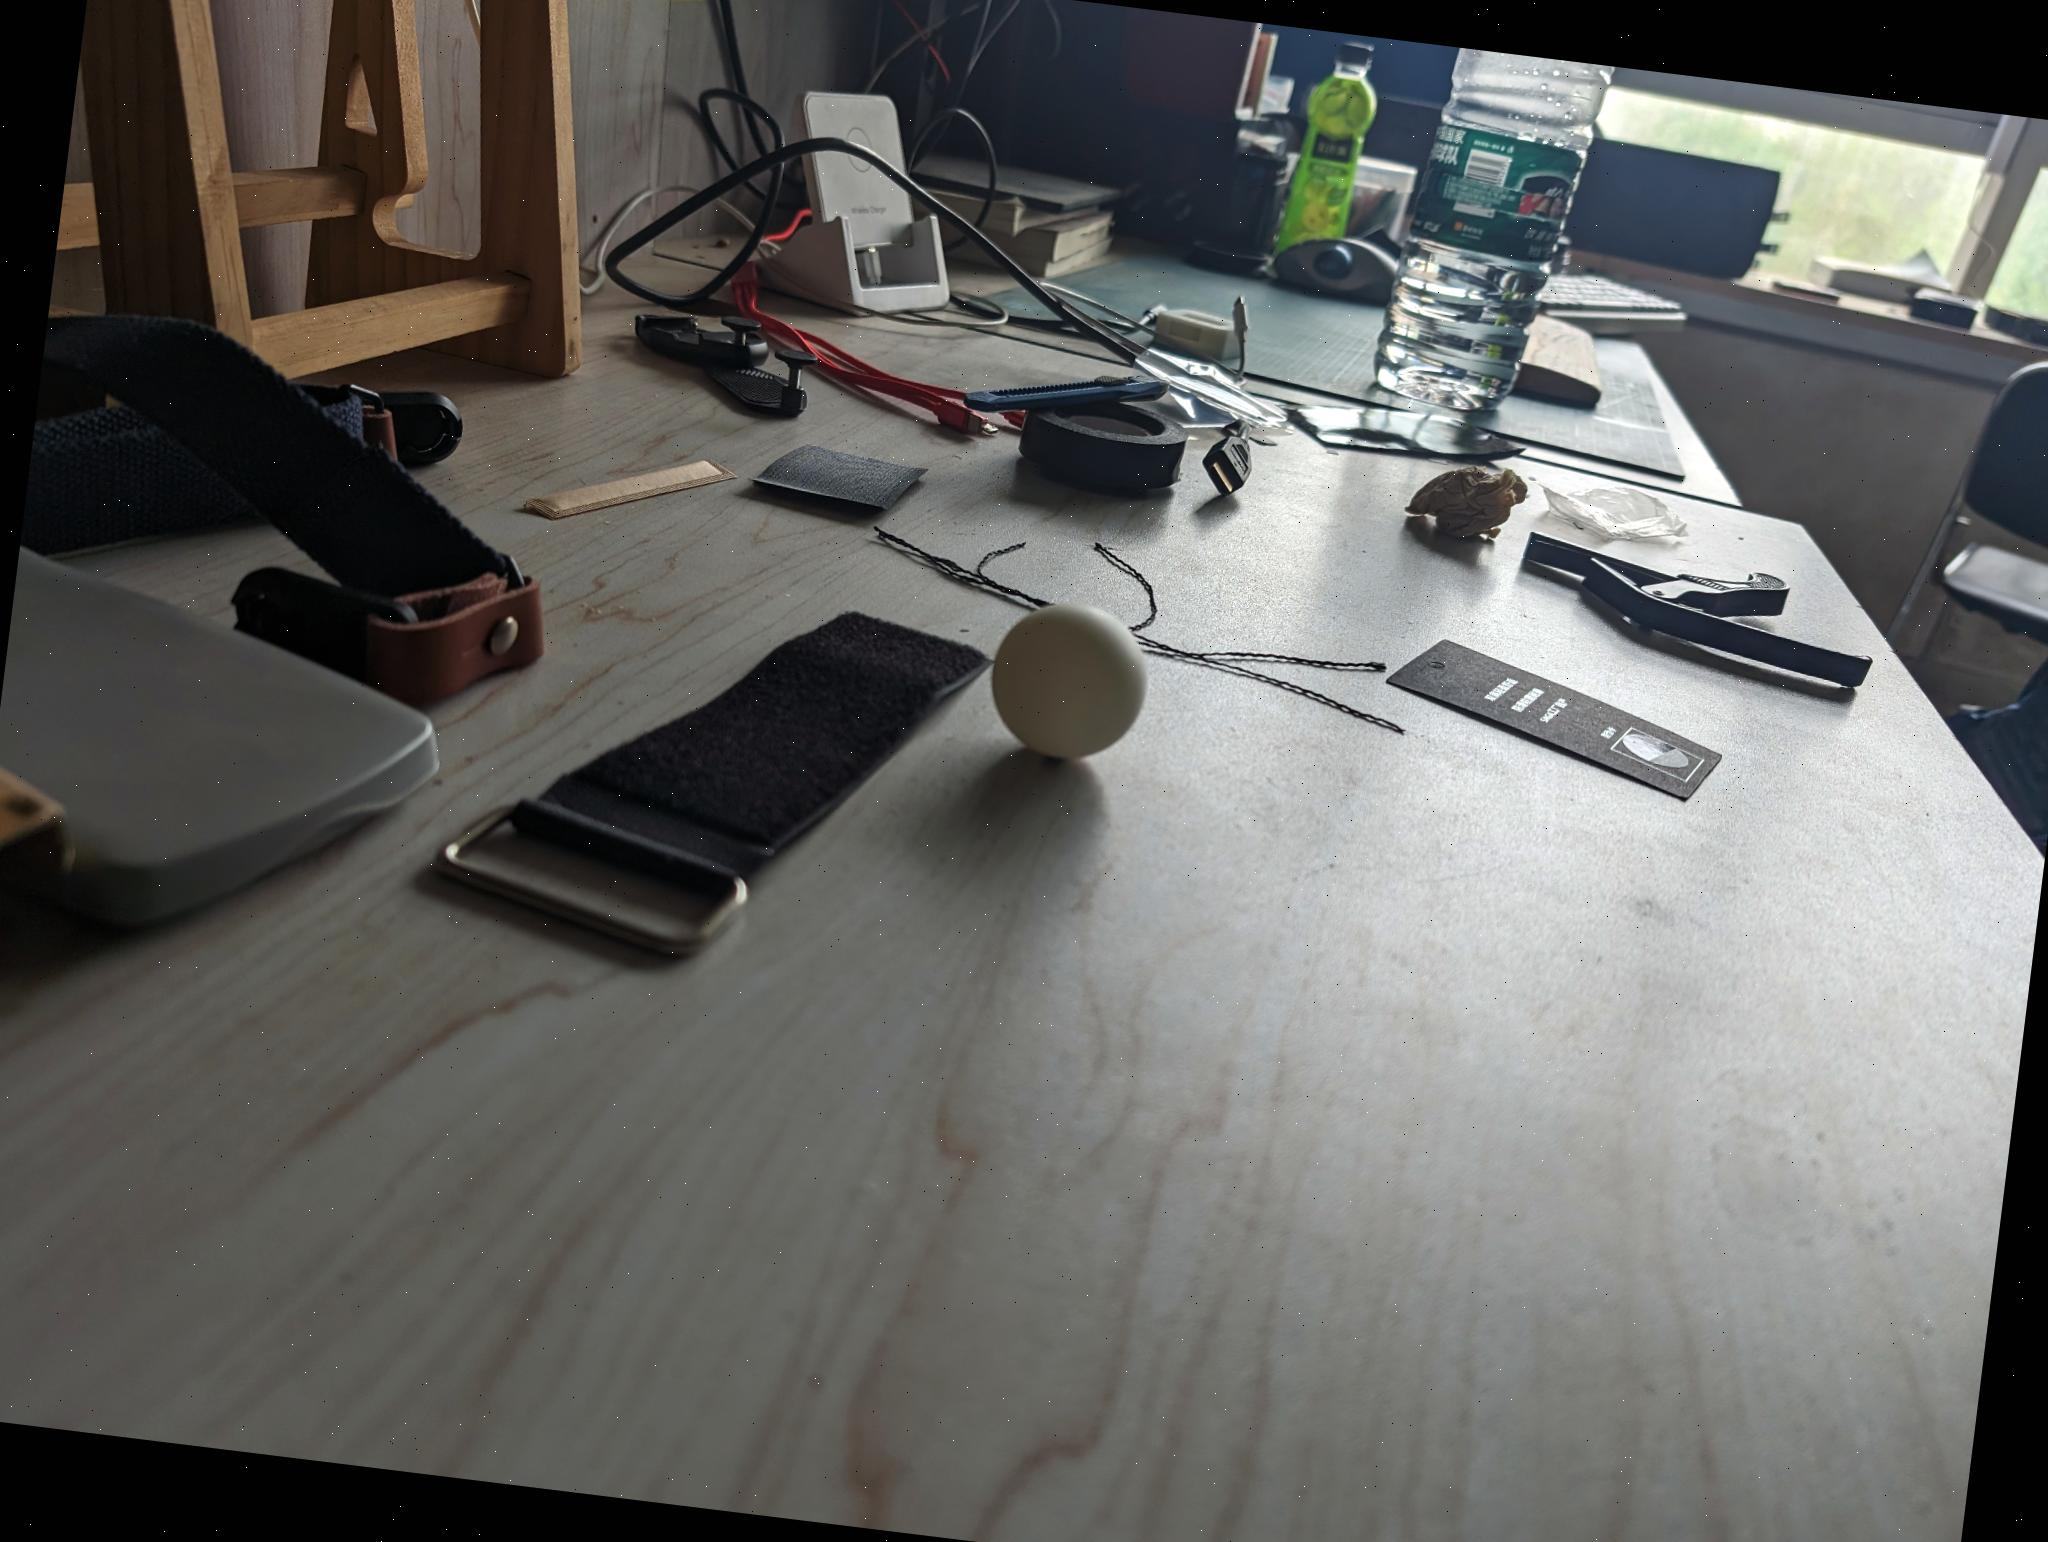ball: (978, 590, 1156, 777)
